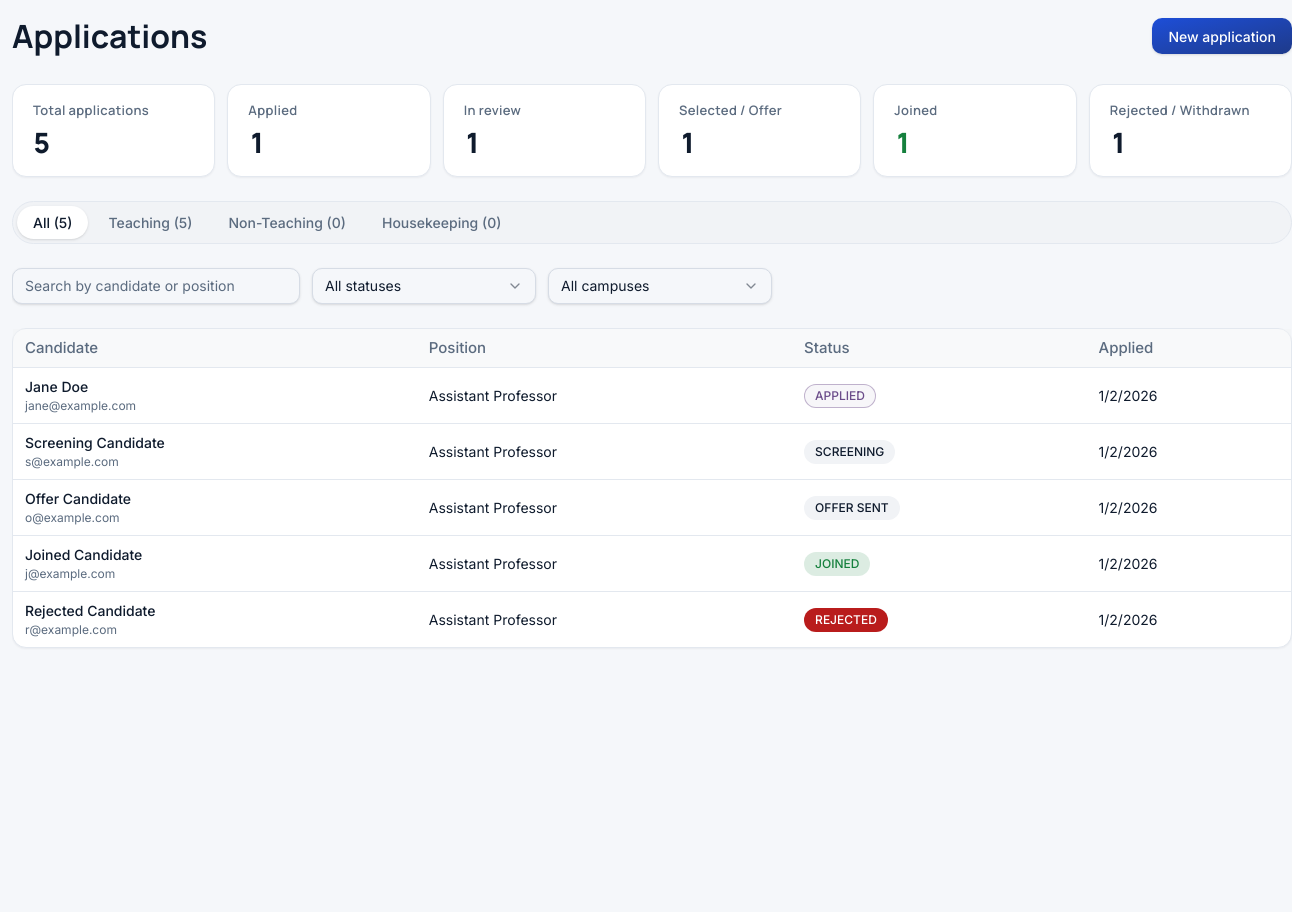
ApplicationsListPage › shows funnel-stage KPI tiles reflecting the currently filtered rows, one bucket per application status
Expected: the link "Jane Doe" is shown, [25,378,88,395]
Expected: the text "5" is shown, [33,122,50,160]
Type "jane" into the field with placeholder "Search by candidate or position". click: (156, 286)
box: [12,268,300,304]
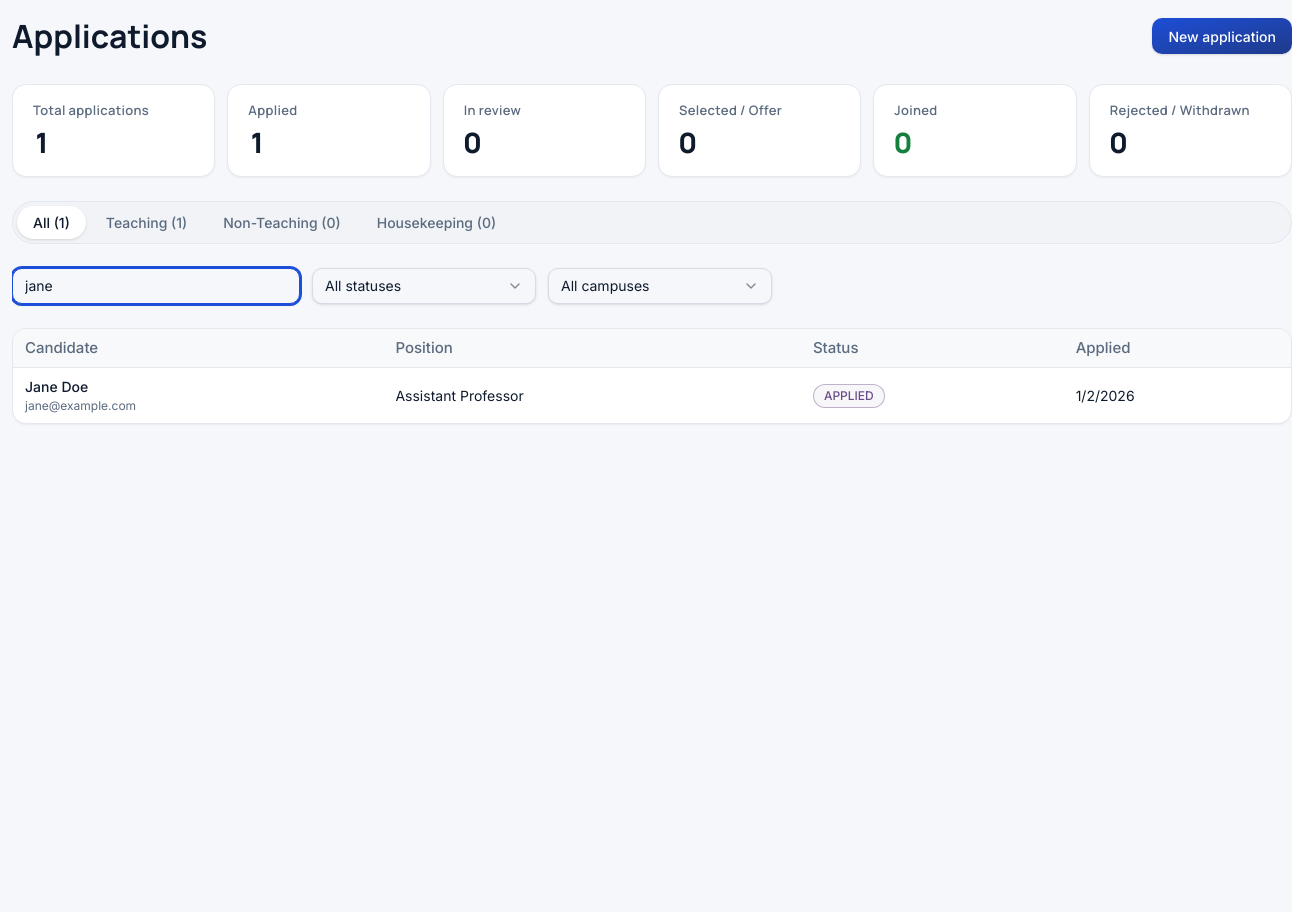
Now the text "1" below "Total applications" is shown, box [33,122,50,160]
Now the text "0" below "In review" is shown, box [464,122,481,160]
Now the text "0" below "Joined" is shown, box [894,122,912,160]
